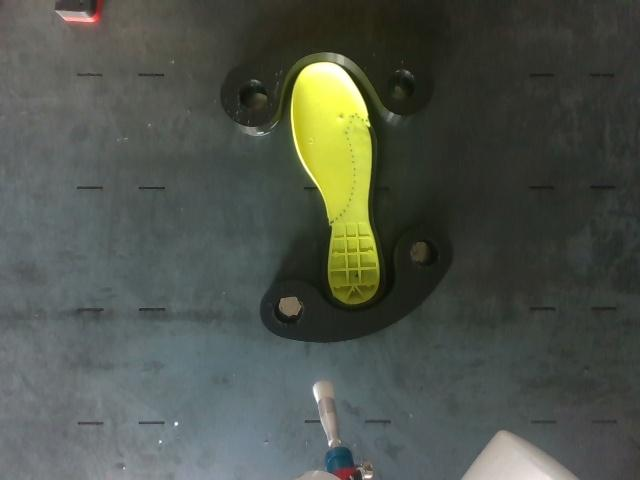shoes: (291, 62, 385, 308)
